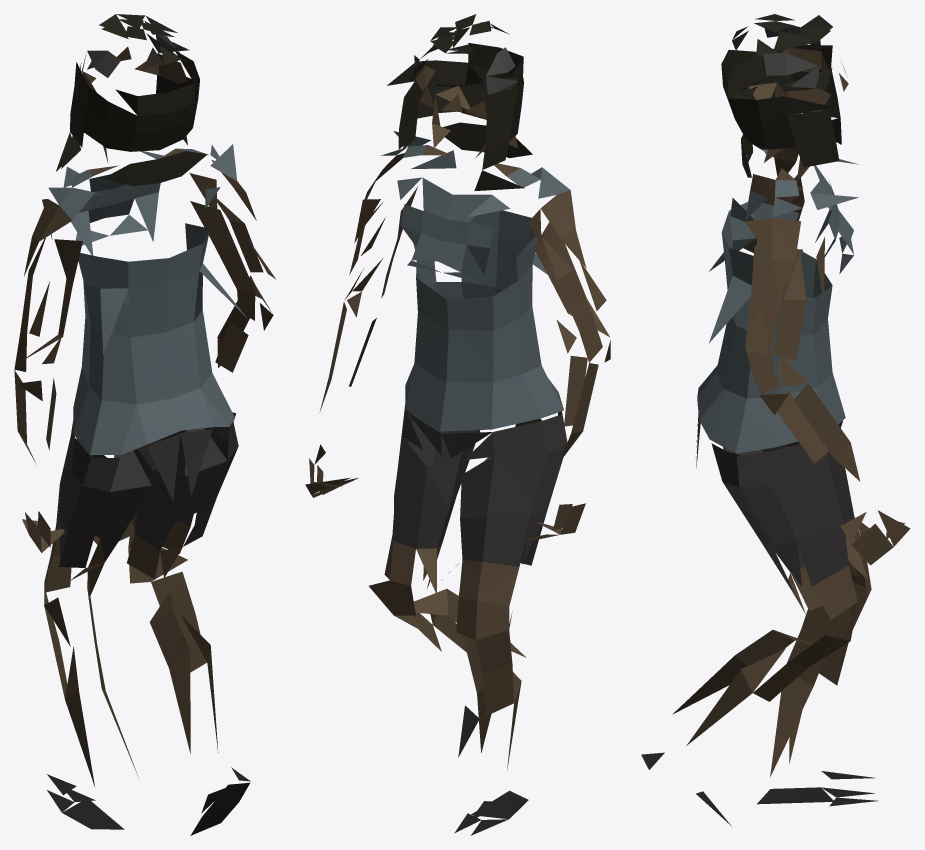
Rendered from personfar_5_w2.fbx.
The picture shows the model from 3 angles, left to right: view 1: azimuth 30°, elevation 25°; view 2: azimuth 150°, elevation 25°; view 3: azimuth 270°, elevation 25°; orthographic projection. The views are drawn at different scales.
Visible parts, largest first — view 1: BaseHuman.000; view 2: BaseHuman.000; view 3: BaseHuman.000.
Boxes of the visible parts, x1,y1,x2,y2 form: BaseHuman.000: [14, 14, 275, 835]; BaseHuman.000: [305, 14, 610, 835]; BaseHuman.000: [641, 14, 910, 826].
Bounding box in the file's own units: 0.3327 × 0.971 × 0.2969.
